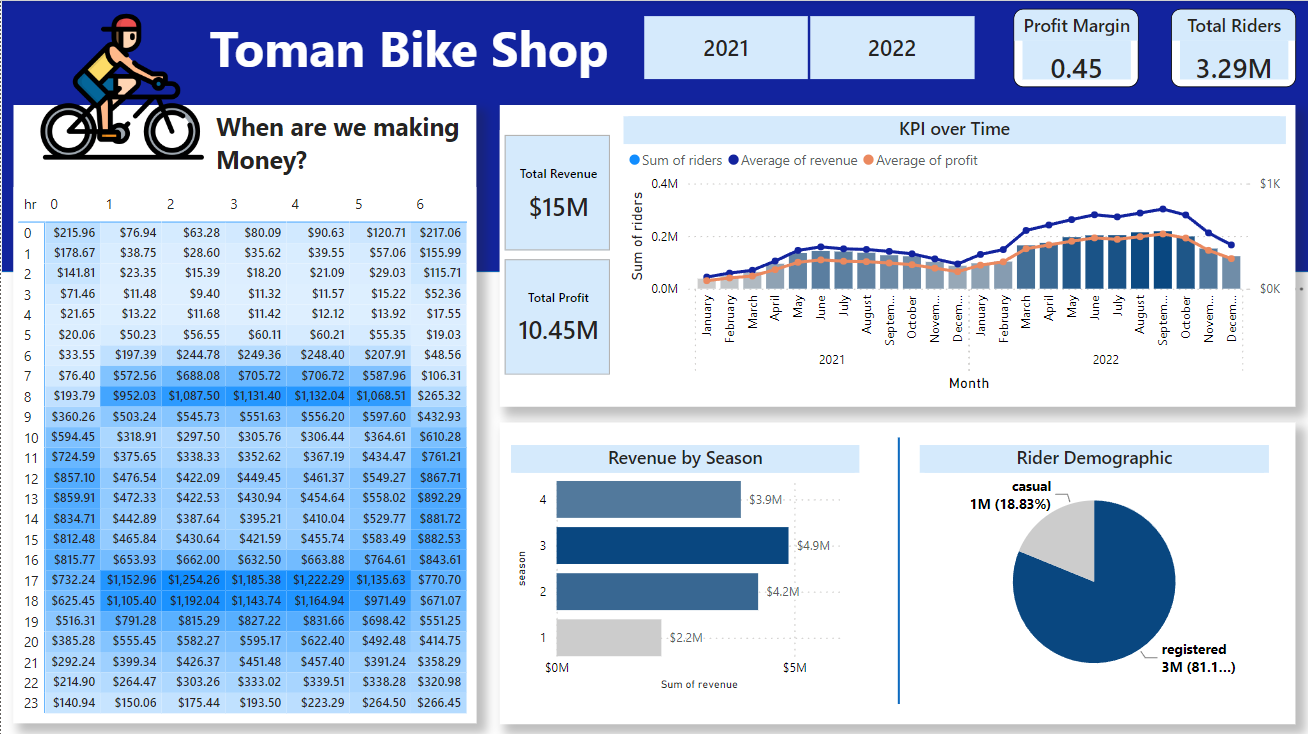

This screenshot's page, from the dashboard's own definition file:
{"tool":"powerbi","page":{"name":"Dashboard","canvas":[1280,720],"ordinal":0},"visuals":[{"type":"shape","box":[0,0,1280.3,266.2],"z":0},{"type":"cardVisual","fields":{"Data":["Min(Query1.rider_type)"]},"box":[12.3,102.9,452.8,605.1],"z":1000},{"type":"cardVisual","fields":{"Data":["Min(Query1.rider_type)"]},"box":[488.5,102.9,778,295],"z":2000},{"type":"cardVisual","fields":{"Data":["Min(Query1.rider_type)"]},"box":[488.5,413,778,295],"z":3000},{"type":"image","box":[30.2,0,175.6,170.2],"z":4000},{"type":"pivotTable","fields":{"Rows":["Query1.hr"],"Columns":["Query1.weekday"],"Values":["Avg(Query1.revenue)"]},"box":[12.3,183.9,452.8,524.2],"z":5000},{"type":"textbox","box":[205.8,102.9,248.4,81],"z":6000},{"type":"lineClusteredColumnComboChart","title":"KPI over Time","fields":{"Category":["Query1.dteday.Variation.Date Hierarchy.Year","Query1.dteday.Variation.Date Hierarchy.Month","Query1.dteday.Variation.Date Hierarchy.Day"],"Y":["Sum(Query1.riders)"],"Y2":["Avg(Query1.revenue)","Avg(Query1.profit)"]},"box":[609.3,113.9,647.7,274.4],"z":7000},{"type":"barChart","title":"Revenue by Season","fields":{"Category":["Query1.season"],"Y":["Sum(Query1.revenue)"]},"box":[499.5,435,341,245.6],"z":8000},{"type":"shape","box":[859,428.1,39.8,260.7],"z":9000},{"type":"pieChart","title":"Rider Demographic","fields":{"Y":["Sum(Query1.riders)"],"Category":["Query1.rider_type"]},"box":[898.8,435,341.7,245.6],"z":10000},{"type":"cardVisual","title":"KPI over Time","fields":{"Data":["Sum(Query1.revenue)","Sum(Query1.profit)"]},"box":[488.5,127.6,113.9,245.6],"z":11000},{"type":"cardVisual","title":"Total Riders","fields":{"Data":["Sum(Query1.riders)"]},"box":[1144.4,8.2,122.1,76.8],"z":12000},{"type":"cardVisual","title":"Profit Margin","fields":{"Data":["Query1.Profit Margim"]},"box":[990.7,8.2,122.1,76.8],"z":12001},{"type":"textbox","box":[199,8.2,422.6,75.5],"z":12002},{"type":"slicer","fields":{"Values":["Query1.Years"]},"box":[602.4,8.2,373.2,75.5],"z":12003}]}

Visuals, with their boxes in screenshot pixels (x1, y1, x2, y2), scaled from the page's 1280x720 canvas onto the 1308x734 screenshot:
shape: box=[0, 0, 1307, 271]
cardVisual - Min(Query1.rider_type): box=[13, 105, 475, 722]
cardVisual - Min(Query1.rider_type): box=[499, 105, 1294, 406]
cardVisual - Min(Query1.rider_type): box=[499, 421, 1294, 722]
image: box=[31, 0, 210, 174]
pivotTable - Query1.hr x Query1.weekday: box=[13, 187, 475, 722]
textbox: box=[210, 105, 464, 187]
"KPI over Time" lineClusteredColumnComboChart: box=[623, 116, 1284, 396]
"Revenue by Season" barChart: box=[510, 443, 859, 694]
shape: box=[878, 436, 918, 702]
"Rider Demographic" pieChart: box=[918, 443, 1268, 694]
"KPI over Time" cardVisual: box=[499, 130, 616, 380]
"Total Riders" cardVisual: box=[1169, 8, 1294, 87]
"Profit Margin" cardVisual: box=[1012, 8, 1137, 87]
textbox: box=[203, 8, 635, 85]
slicer - Query1.Years: box=[616, 8, 997, 85]
